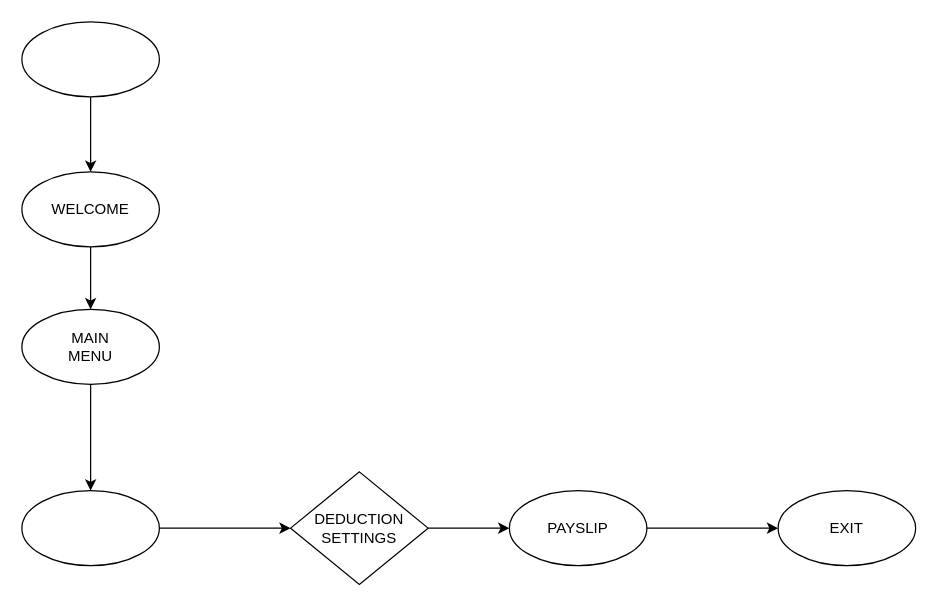
The diagram is 938 pixels wide and 606 high, and some of its shapes have lost their labels. Each missing label, with the box of its shape:
INSERT DETAILS: (21, 489, 159, 566)
START: (21, 21, 159, 97)
